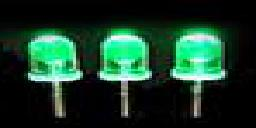LED: (24, 29, 87, 118), (168, 30, 230, 120), (98, 29, 154, 118)
